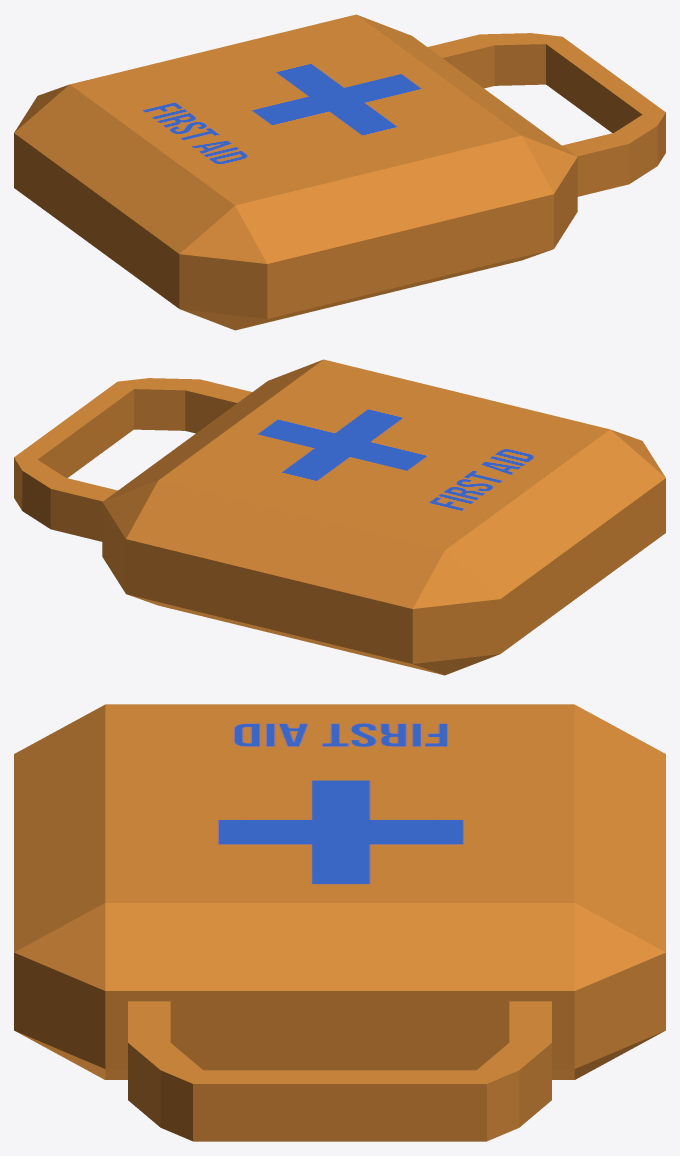
File: mod_item_medkit.fbx
3 renders of one model, top to bottom at view 1: azimuth 30°, elevation 25°; view 2: azimuth 150°, elevation 25°; view 3: azimuth 270°, elevation 25°, orthographic. The views are drawn at different scales.
Parts seen in each view (by area): view 1: Cube; view 2: Cube; view 3: Cube.
Part boxes in pixels (x1,y1,x2,y2): Cube: (14,14,665,330); Cube: (14,359,665,675); Cube: (14,704,665,1141).
Bounding box in the file's own units: 260 × 60 × 200.
